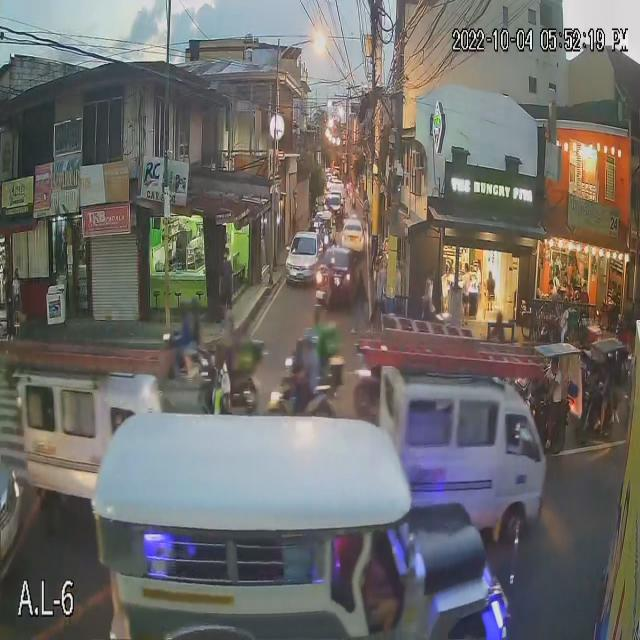helmet: (300, 327, 323, 350), (179, 299, 196, 316), (192, 296, 204, 316)
motorcycle: (264, 354, 344, 417), (172, 354, 215, 383)
rider: (289, 351, 321, 413), (172, 317, 192, 377), (183, 319, 203, 378)
